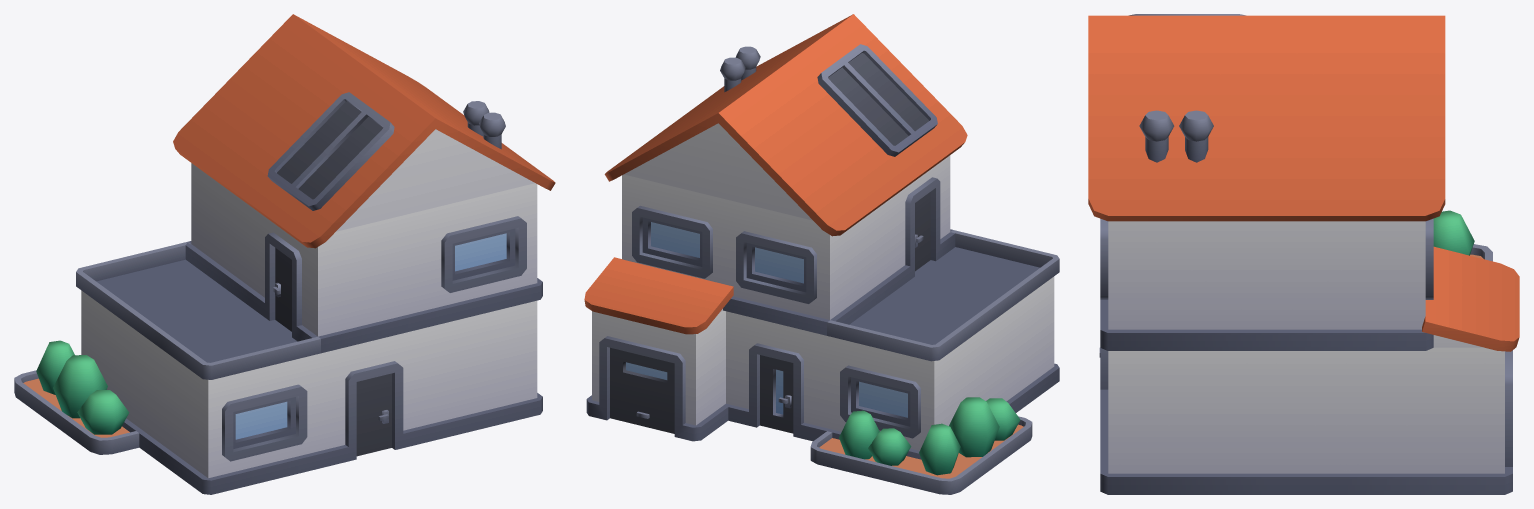
File: house_suburb_u_warm.glb
The picture shows the model from 3 angles, left to right: view 1: azimuth 30°, elevation 25°; view 2: azimuth 150°, elevation 25°; view 3: azimuth 270°, elevation 25°; orthographic projection. The views are drawn at different scales.
Visible parts, largest first — view 1: building-type-u; view 2: building-type-u; view 3: building-type-u.
Boxes of the visible parts, left/top/right/bottom form: building-type-u: left=14, top=14, right=555, bottom=494; building-type-u: left=584, top=14, right=1059, bottom=494; building-type-u: left=1088, top=14, right=1519, bottom=494.
Size of the model in its own units: 1.43 by 1.14 by 1.09.
1 material, 1 textured.
